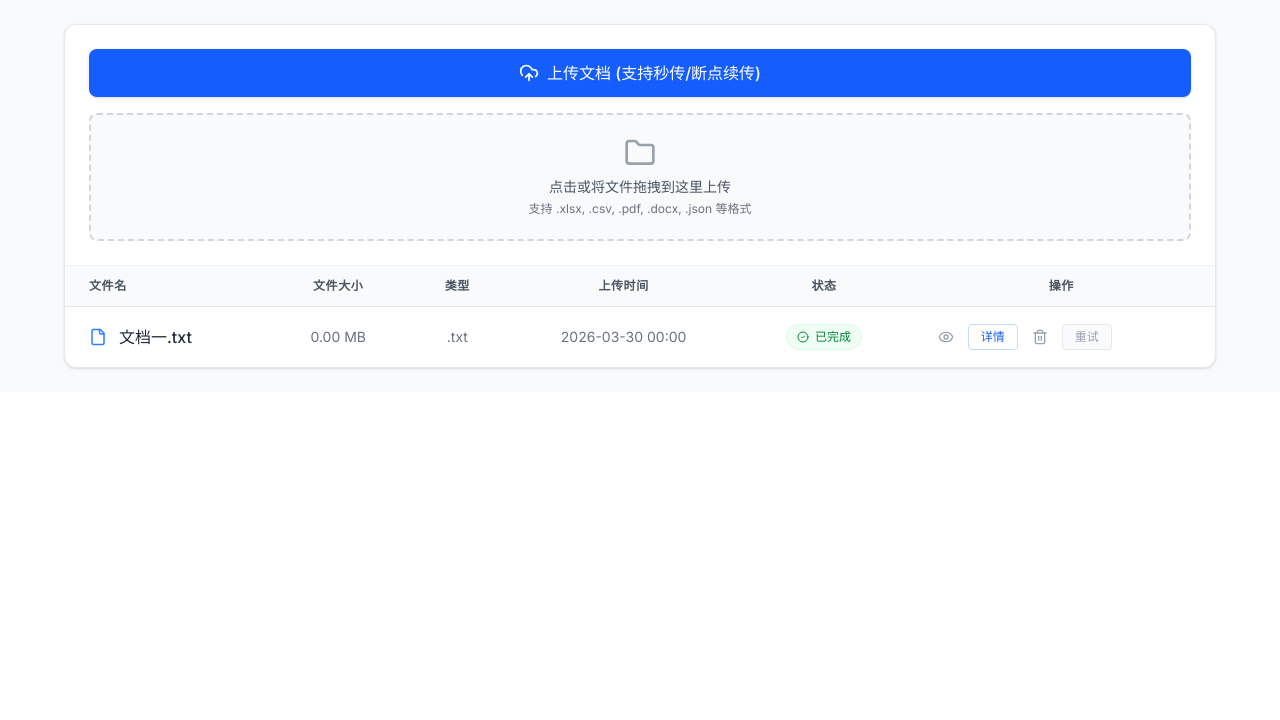
Test: DocumentListPanel preview integration › auto falls back to legacy preview when new preview content request fails
Click the button named "预览" at (946, 337), box x1=932 y1=323 x2=960 y2=351
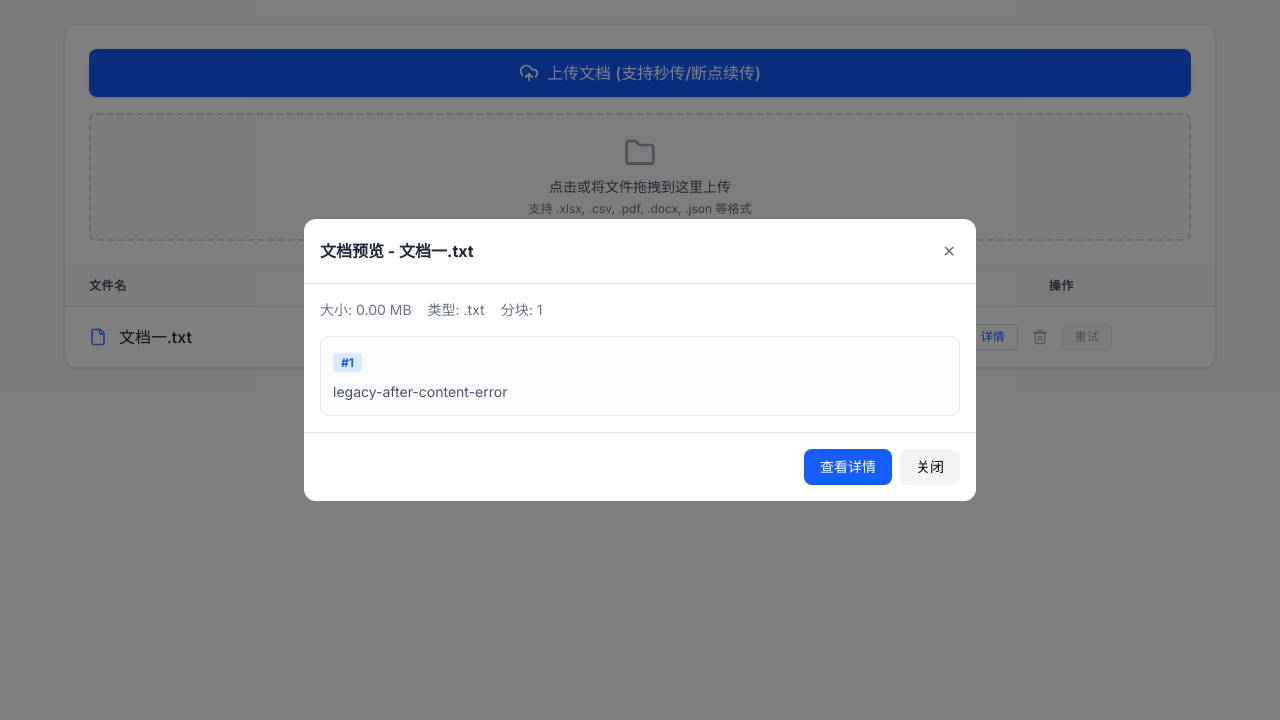
expect the element with test id "legacy-preview-modal-surface" is shown: met, box x1=304 y1=219 x2=976 y2=501
expect the text "legacy-after-content-error" is shown: met, box x1=333 y1=383 x2=508 y2=400
